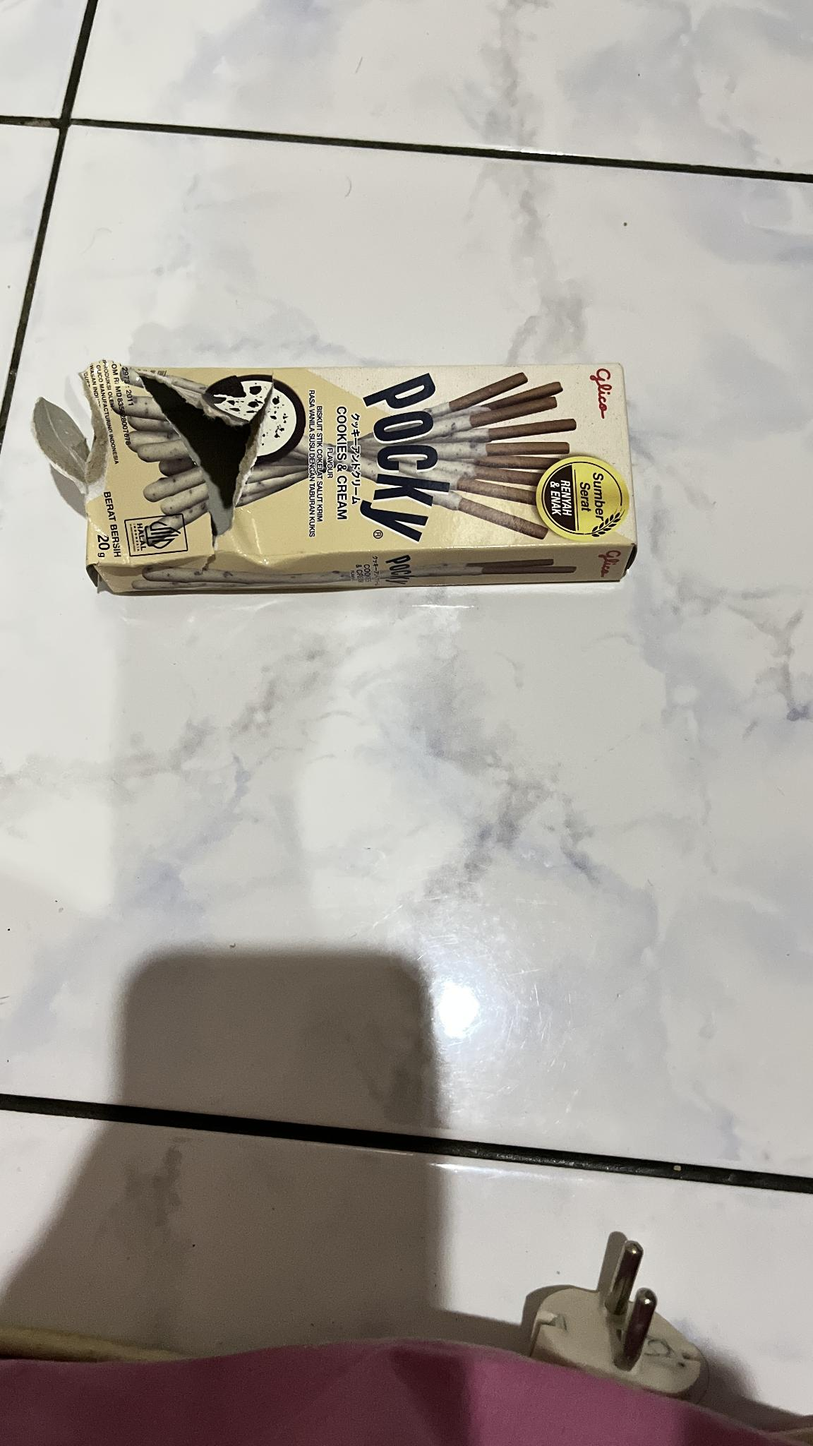Kertas: (82, 362, 634, 559)
